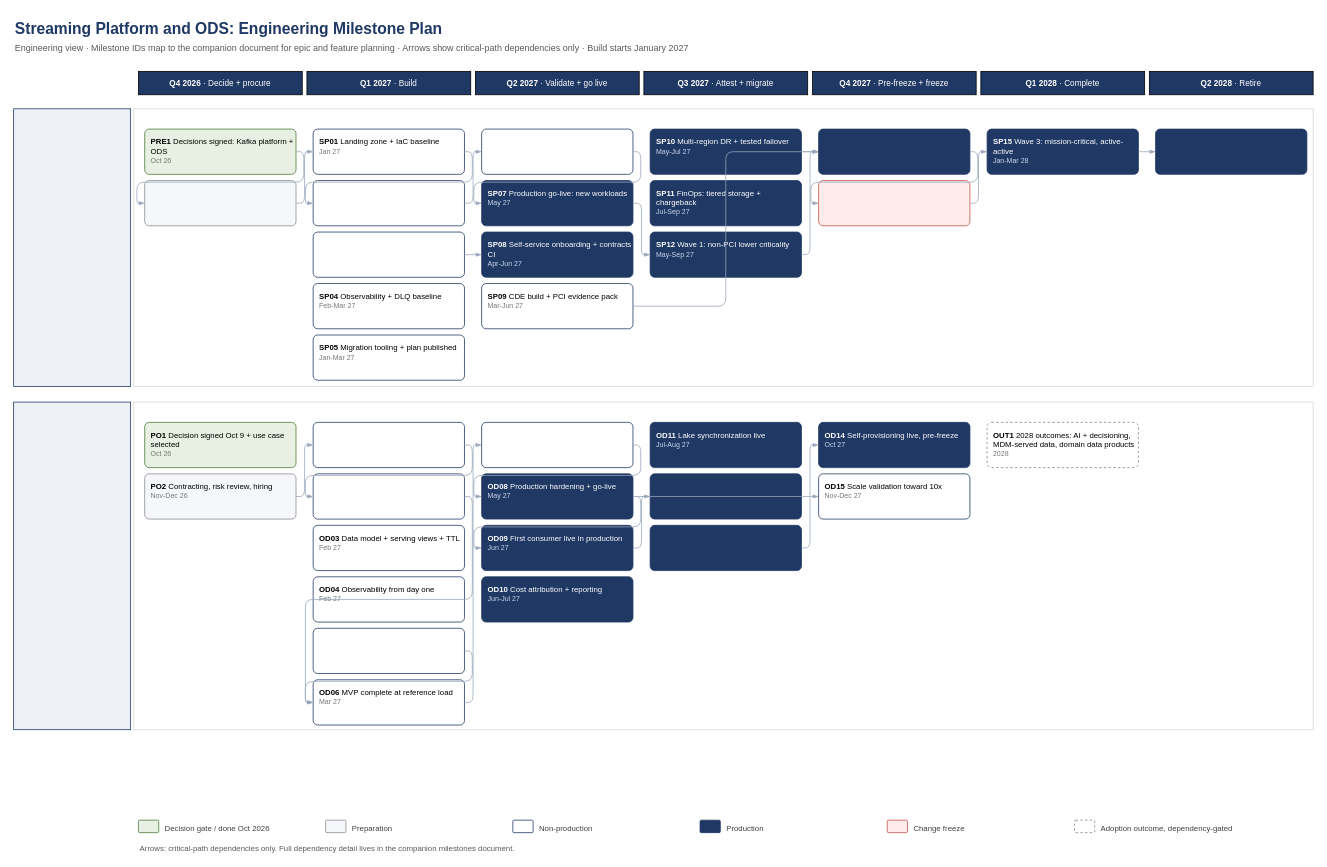
This 1327x867 diagram has some shape labels left out. Here are the shapes that lost their labels. From the top down, the centre of each, then its label:
[557,151]: SP06 Performance + failover validation Apr 27
[894,151]: SP13 Wave 2: business-critical, done pre-freeze Aug-Oct 27
[1231,151]: SP16 Legacy decommission + savings Apr-Jun 28
[220,203]: PRE2 Procurement, PS and FTE onboarding Nov-Dec 26
[388,203]: SP02 Non-prod cluster build + private connectivity Jan-Feb 27
[894,203]: SP14 Freeze: parallel run + cutover rehearsal Nov-Dec 27
[72,247]: Shared Streaming Platform
[388,254]: SP03 Schema registry + catalog-driven governance Feb-Mar 27
[388,445]: OD01 Foundation: cluster, network, IaC Jan 27
[557,445]: OD07 HA + regional failover validation Apr 27
[388,496]: OD02 Ingestion pipeline: sink, DLQ, replay Jan-Feb 27
[725,496]: OD12 API patterns published + second consumer Aug-Sep 27
[72,565]: Operational Data Store (CREST)
[725,548]: OD13 Governance hardening Sep-Oct 27
[388,651]: OD05 Serving API integration Feb-Mar 27
